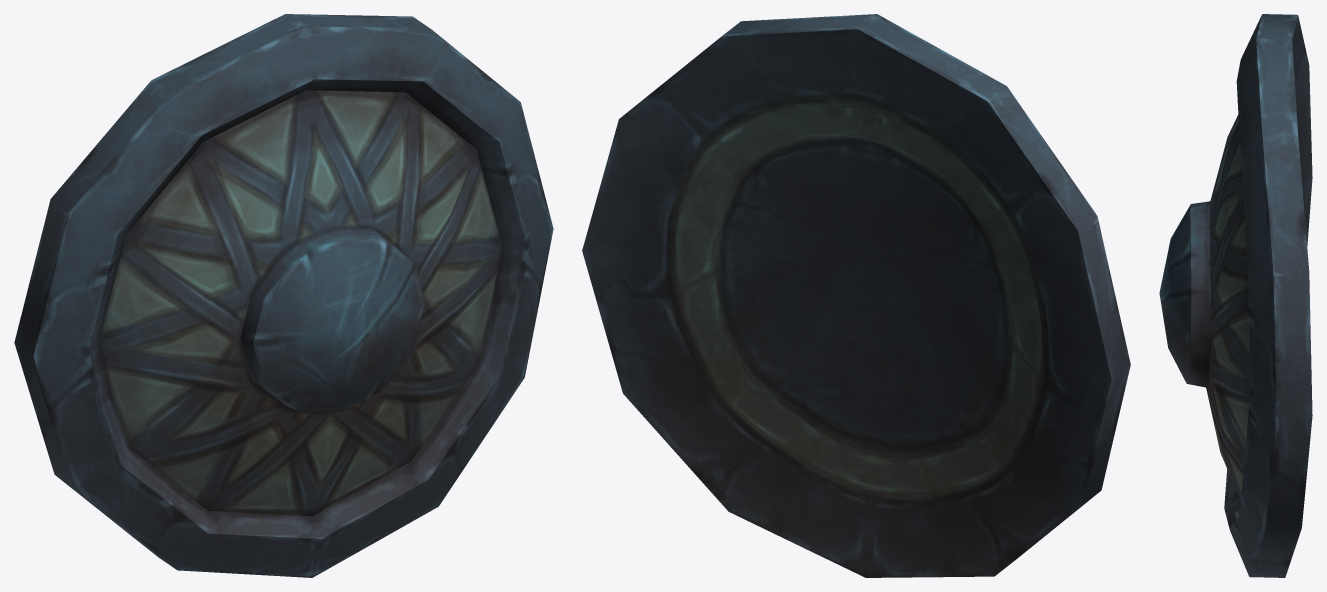
File: shield_02.FBX
3 renders of one model, left to right at view 1: azimuth 30°, elevation 25°; view 2: azimuth 150°, elevation 25°; view 3: azimuth 270°, elevation 25°, orthographic. The views are drawn at different scales.
Parts seen in each view (by area): view 1: shield_02; view 2: shield_02; view 3: shield_02.
Part boxes in pixels (bbox=[...]): shield_02: bbox=[14, 14, 553, 577]; shield_02: bbox=[582, 14, 1130, 577]; shield_02: bbox=[1159, 14, 1312, 577].
Bounding box in the file's own units: 40.84 × 40.96 × 11.08.
